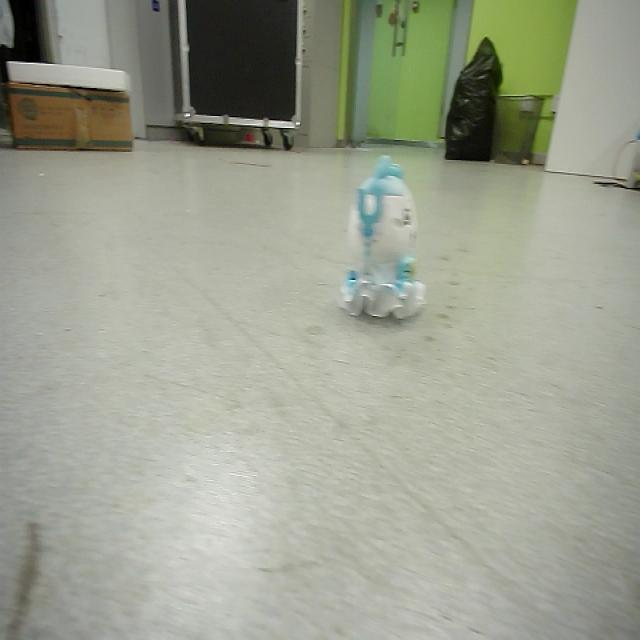xiaoba: (343, 154, 429, 327)
